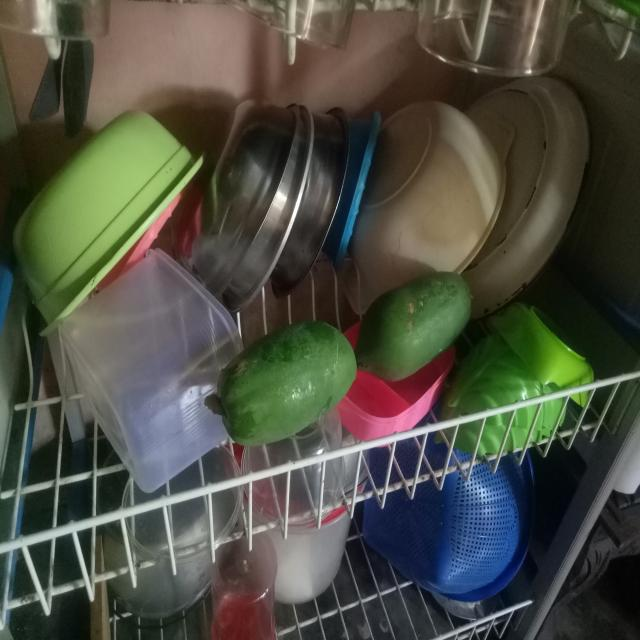Pepaya unrippen: (209, 330, 355, 443), (356, 282, 482, 383)
